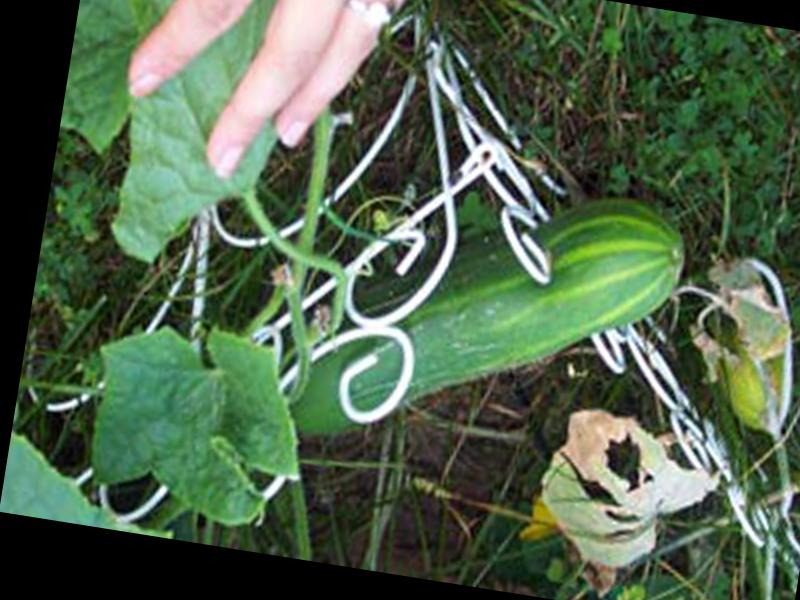Cucumber: (281, 152, 691, 489)
